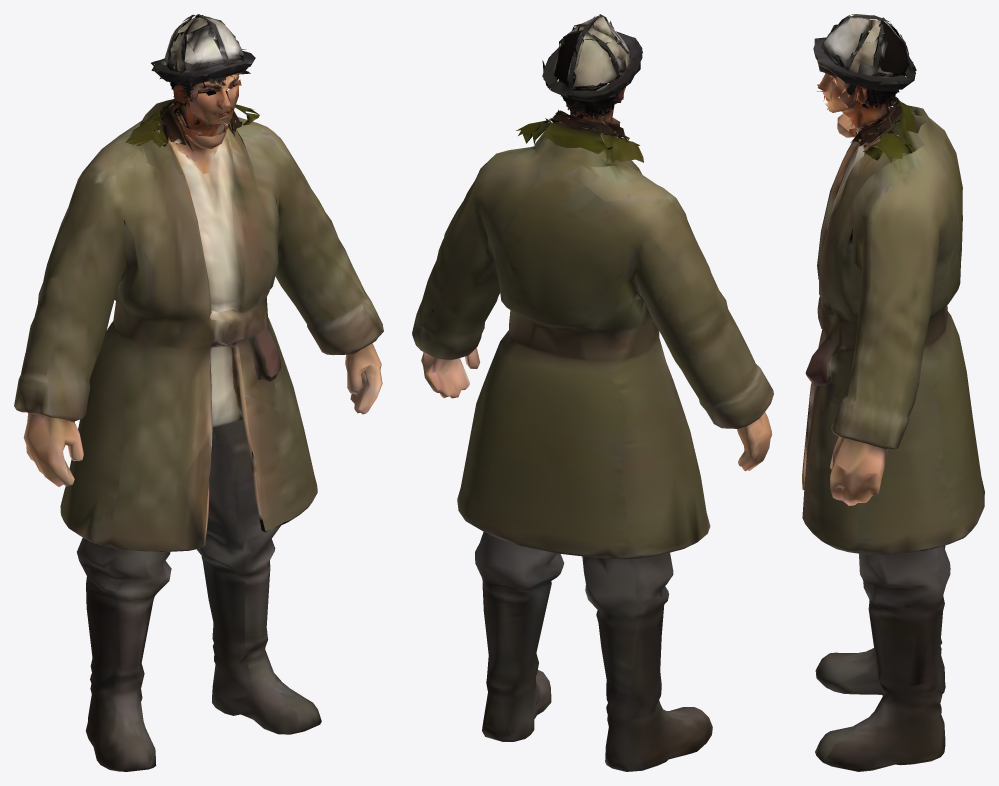
Rendered from herder-erlan.gen.phone.glb.
The picture shows the model from 3 angles, left to right: view 1: azimuth 30°, elevation 25°; view 2: azimuth 150°, elevation 25°; view 3: azimuth 270°, elevation 25°; orthographic projection. The views are drawn at different scales.
Parts seen in each view (by area): view 1: herder-erlan.raw; view 2: herder-erlan.raw; view 3: herder-erlan.raw.
Part boxes in pixels (<box>): herder-erlan.raw: <box>14,14,383,771</box>; herder-erlan.raw: <box>412,14,773,771</box>; herder-erlan.raw: <box>802,14,984,771</box>.
Size of the model in its own units: 0.9567 by 1.85 by 0.4318.
Materials: 1 (1 with a texture image).
